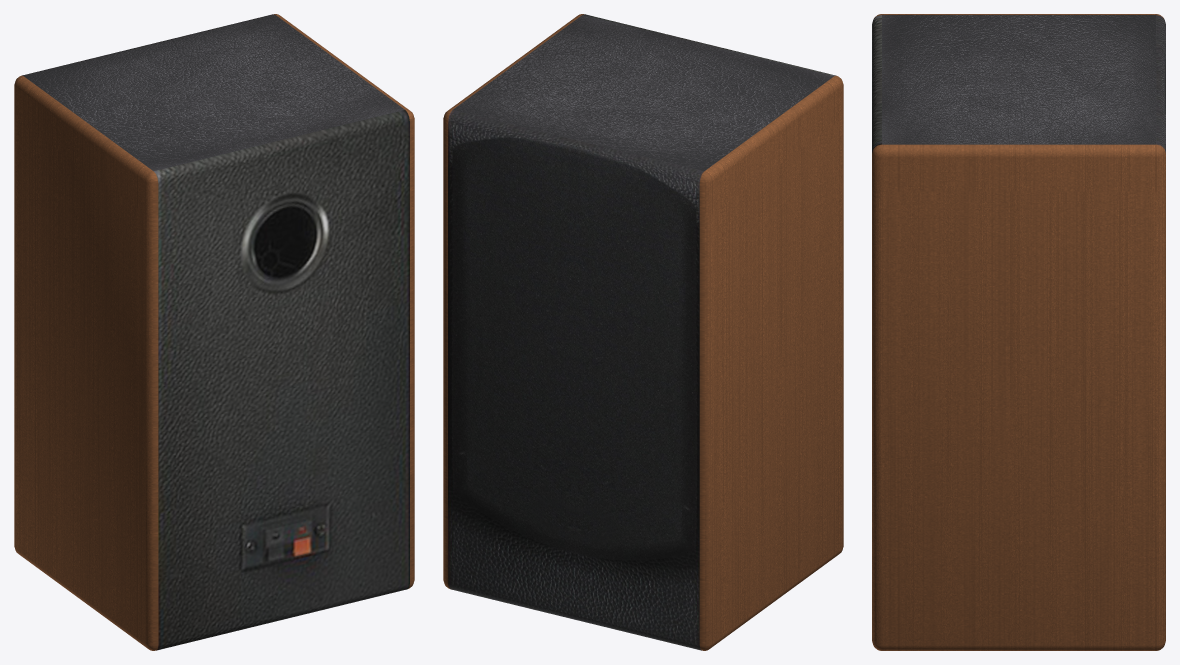
The model's file is Loudspeaker01b.FBX.
The picture shows the model from 3 angles, left to right: view 1: azimuth 30°, elevation 25°; view 2: azimuth 150°, elevation 25°; view 3: azimuth 270°, elevation 25°; orthographic projection. The views are drawn at different scales.
Parts seen in each view (by area): view 1: Loudspeaker01b; view 2: Loudspeaker01b; view 3: Loudspeaker01b.
Boxes of the visible parts, bbox=[...] form: Loudspeaker01b: bbox=[14, 14, 414, 650]; Loudspeaker01b: bbox=[443, 14, 843, 650]; Loudspeaker01b: bbox=[872, 14, 1165, 650].
Size of the model in its own units: 13.78 by 23.55 by 12.4.
